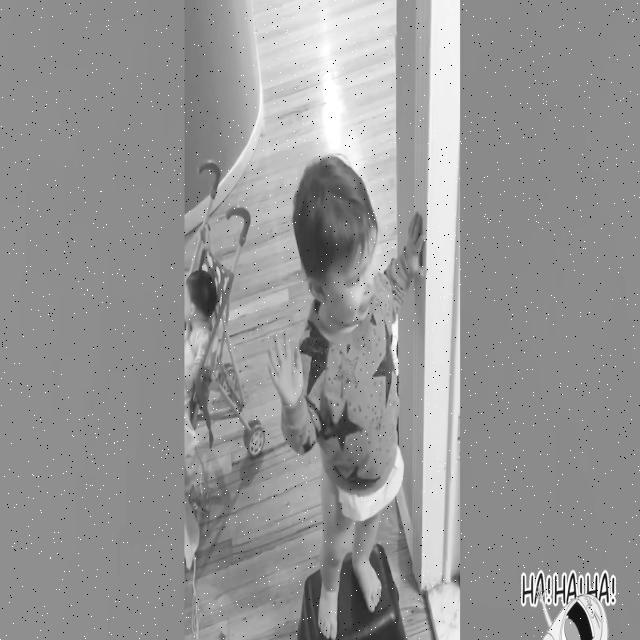child: (268, 151, 426, 639)
